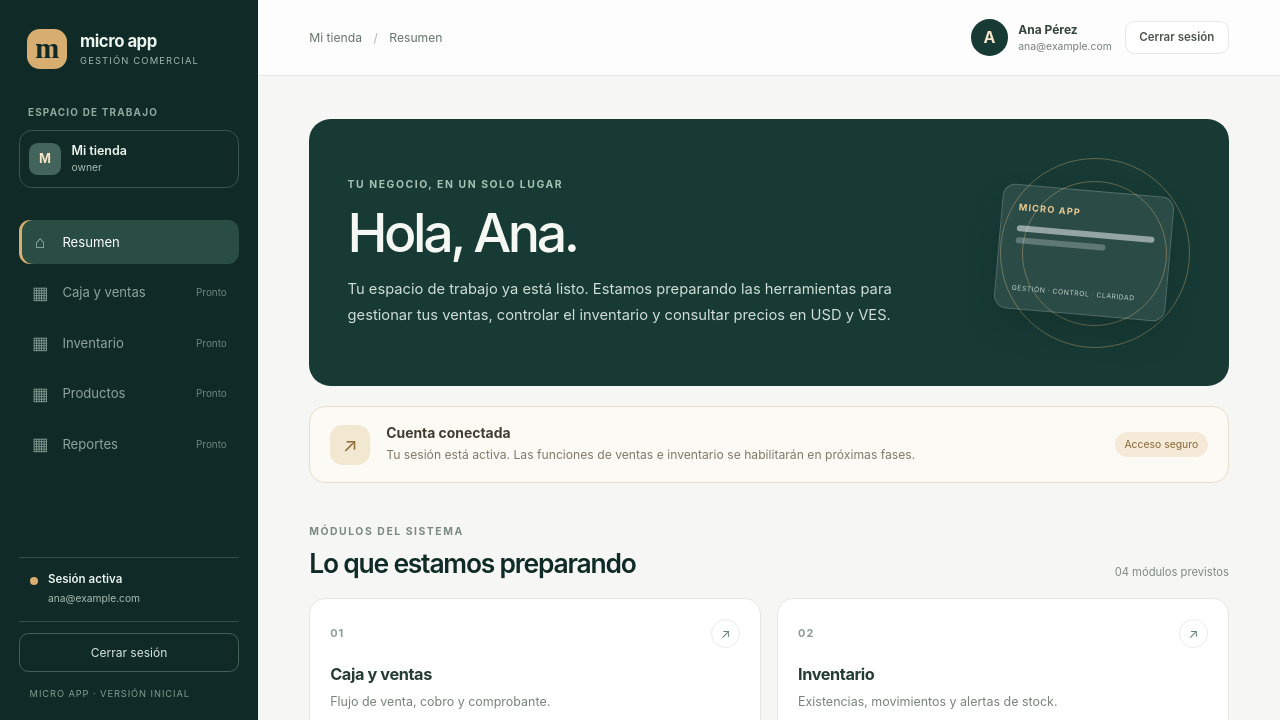
it: Micro app authentication flow › revokes the session on logout and returns to the login screen
The image size is (1280, 720).
Click the button "Cerrar sesión" below "Sesión activa". click: (129, 652)
box: top-left (19, 633), bottom-right (239, 672)
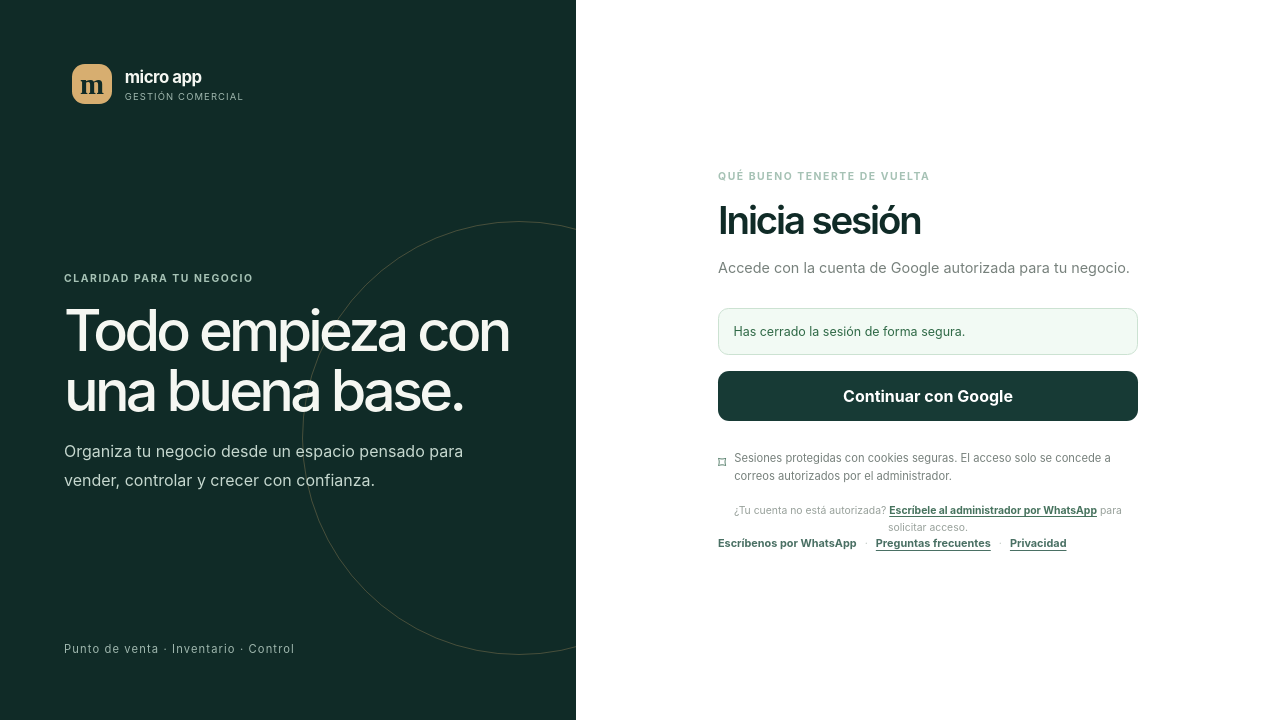
Expected: the text "Inicia sesión" is shown, top-left (718, 197), bottom-right (921, 243)
Expected: the text "Has cerrado la sesión de forma segura." is shown, top-left (718, 308), bottom-right (1138, 355)
